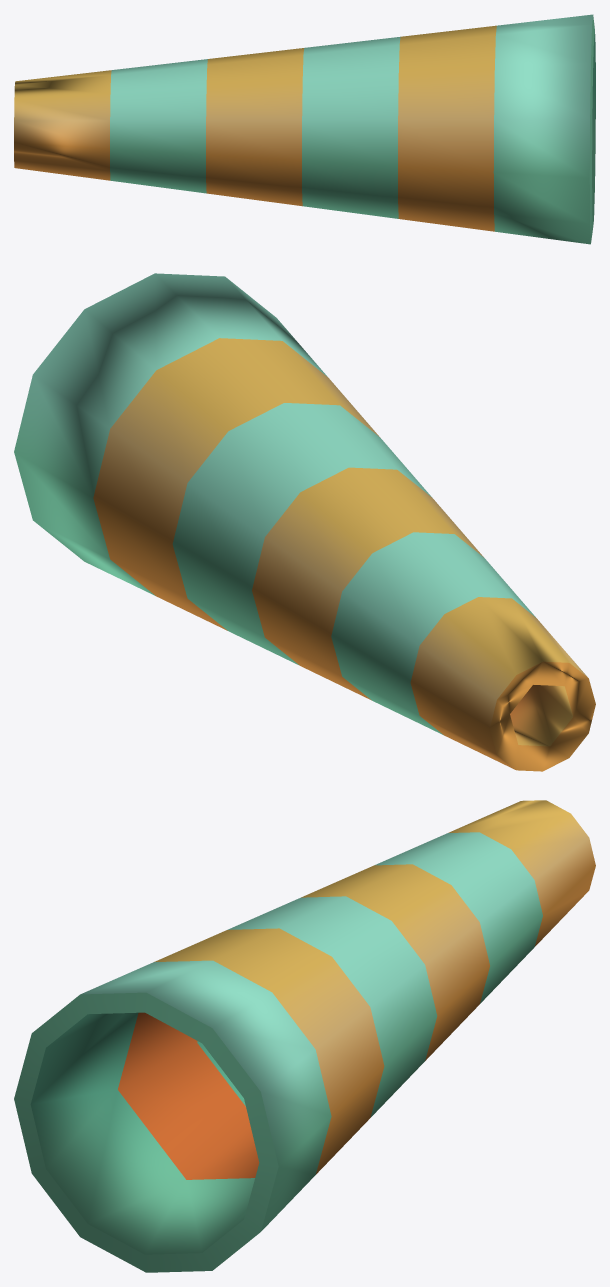
The model's file is BeachBeaconWindSock_0.glb.
3 views of the same model, one above another, from view 1: azimuth 30°, elevation 25°; view 2: azimuth 150°, elevation 25°; view 3: azimuth 270°, elevation 25° (orthographic). The views are drawn at different scales.
Visible parts, largest first — view 1: BeachBeaconWindSock; view 2: BeachBeaconWindSock; view 3: BeachBeaconWindSock.
Boxes of the visible parts, <box> form: BeachBeaconWindSock: <box>14,14,595,244</box>; BeachBeaconWindSock: <box>14,273,595,771</box>; BeachBeaconWindSock: <box>14,800,595,1272</box>.
Size of the model in its own units: 1.58 by 0.6322 by 1.19.
